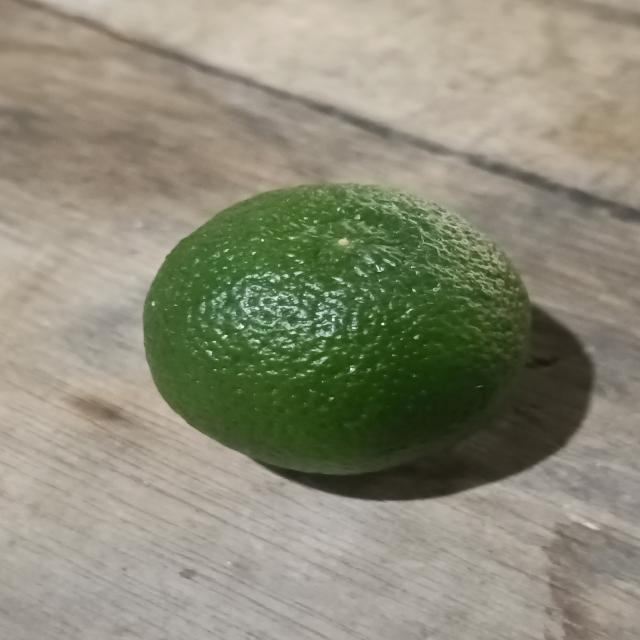heathy: (135, 185, 526, 477)
